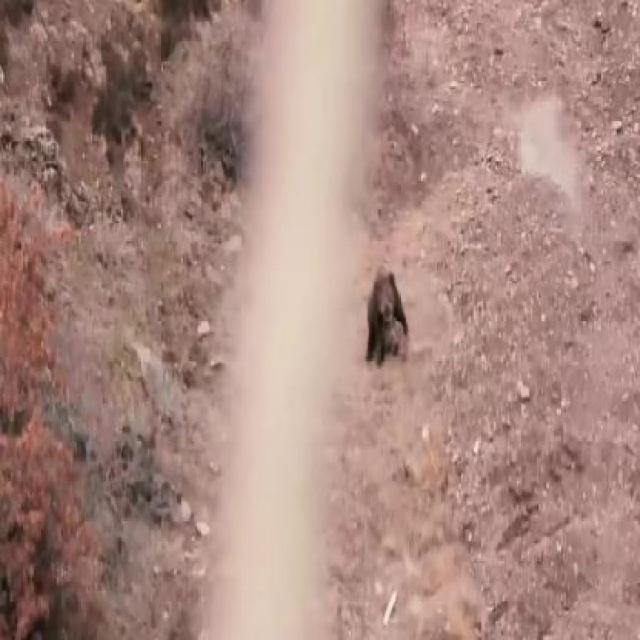pig: (360, 266, 425, 398)
